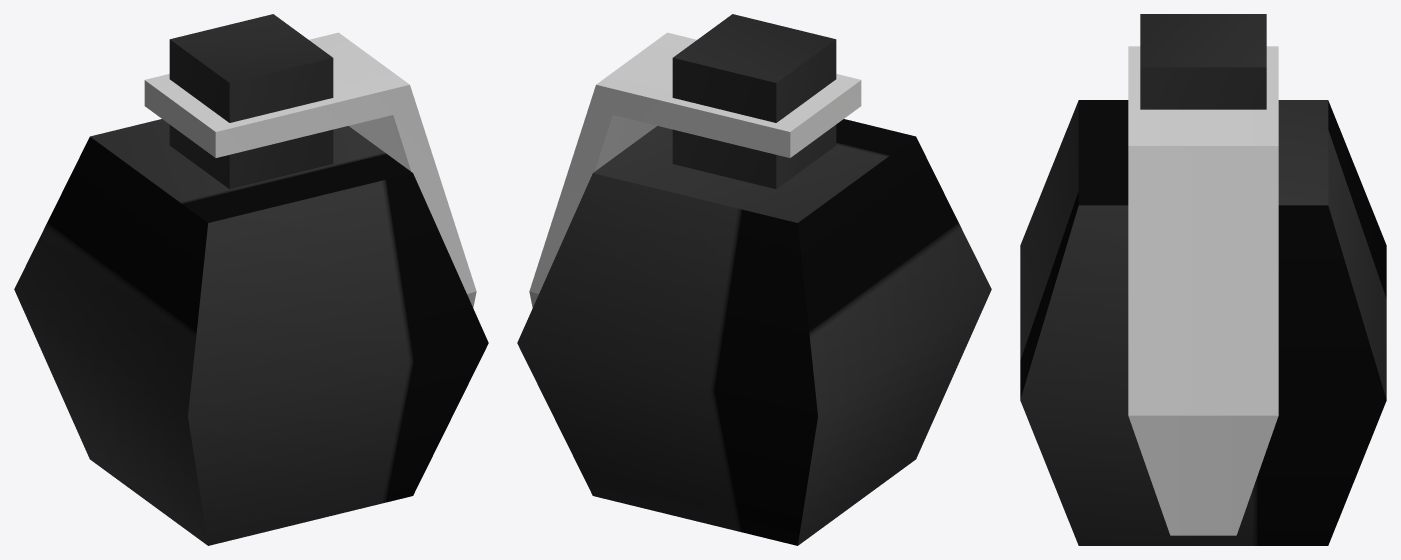
Rendered from Grenade.FBX.
The picture shows the model from 3 angles, left to right: view 1: azimuth 30°, elevation 25°; view 2: azimuth 150°, elevation 25°; view 3: azimuth 270°, elevation 25°; orthographic projection. The views are drawn at different scales.
Parts seen in each view (by area): view 1: Box004; view 2: Box004; view 3: Box004.
Part boxes in pixels (<box>): Box004: <box>14,14,488,545</box>; Box004: <box>517,14,991,545</box>; Box004: <box>1020,14,1386,545</box>.
Size of the model in its own units: 2.53 by 3.06 by 2.24.
